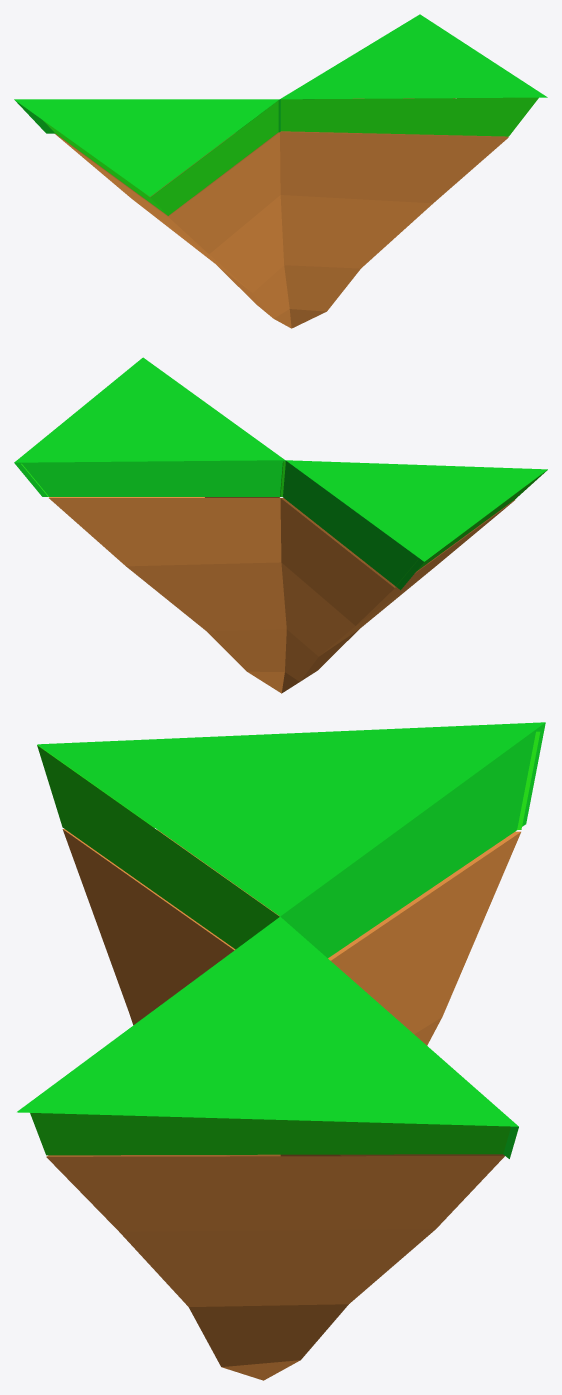
The model's file is Bowtie.fbx.
3 renders of one model, top to bottom at view 1: azimuth 30°, elevation 25°; view 2: azimuth 150°, elevation 25°; view 3: azimuth 270°, elevation 25°, orthographic. The views are drawn at different scales.
Visible parts, largest first — view 1: Vert.003, Vert.001, Vert.002; view 2: Vert.001, Vert.003, Vert.002; view 3: Vert.001, Vert.003, Vert.002.
Part boxes in pixels (left/top/right/bottom): Vert.003: left=55, top=98, right=508, bottom=328; Vert.001: left=14, top=14, right=547, bottom=196; Vert.002: left=43, top=97, right=538, bottom=215; Vert.001: left=14, top=357, right=547, bottom=590; Vert.003: left=49, top=497, right=515, bottom=693; Vert.002: left=21, top=461, right=547, bottom=586; Vert.001: left=17, top=722, right=545, bottom=1158; Vert.003: left=46, top=829, right=520, bottom=1380; Vert.002: left=30, top=731, right=540, bottom=1155.
Bounding box in the file's own units: 1859 × 1013 × 1062.
